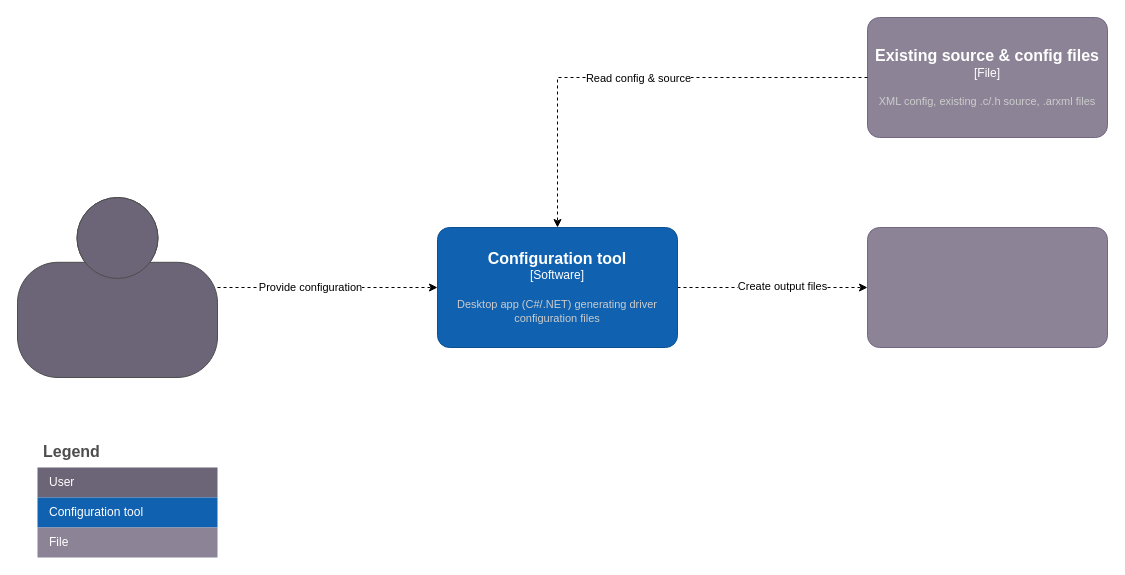
This 1125x575 diagram has some shape labels left out. The shapes that lost their labels are listed below. From the top down, each one's centre as x and y in pixels, then its label:
At (117,287): "User [Person] Engineer configuring driver settings".
At (987,287): "Generated output files [File] Generated .c/.h source and .arxml files".
